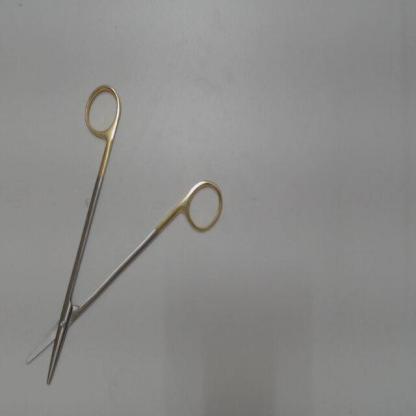7 Metzenbaum Scissors: (23, 79, 231, 392)
